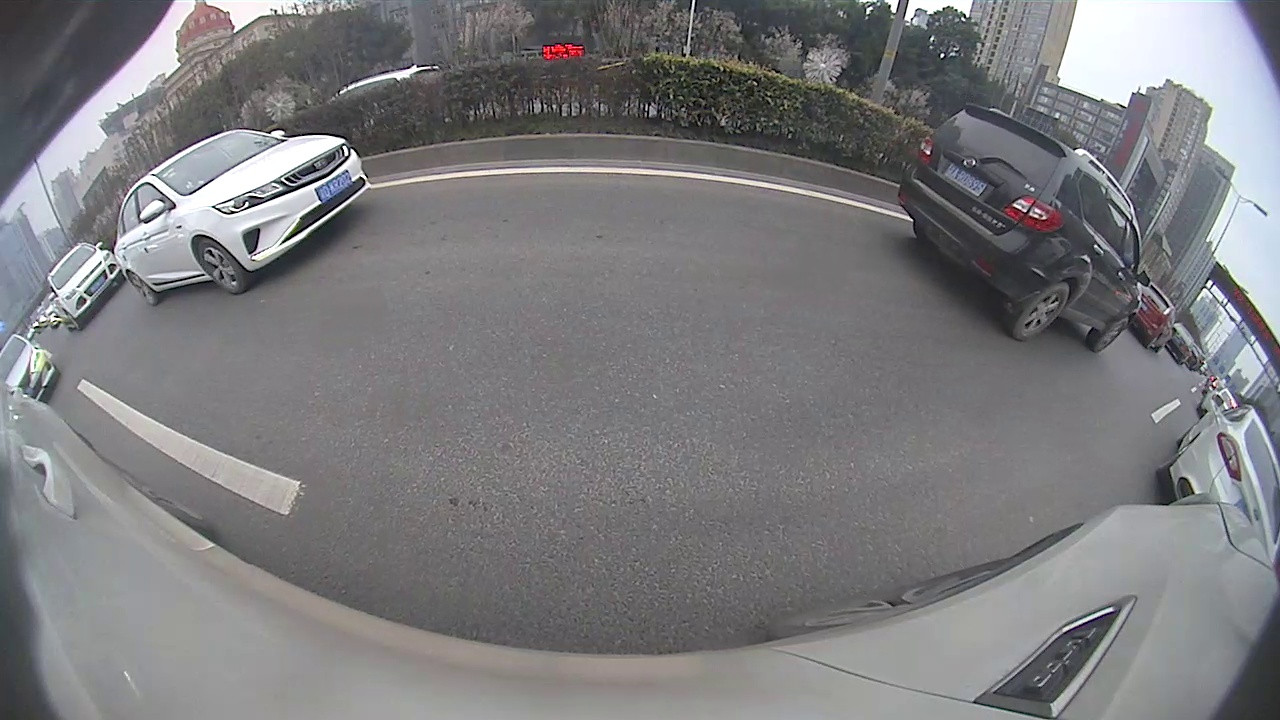car: (896, 102, 1153, 353), (115, 126, 374, 308), (1157, 402, 1279, 568), (43, 240, 128, 334), (1, 333, 61, 407), (1134, 280, 1177, 353)
front: (195, 239, 245, 295), (1091, 317, 1127, 354)
rear: (1011, 281, 1069, 341), (123, 269, 160, 307)
